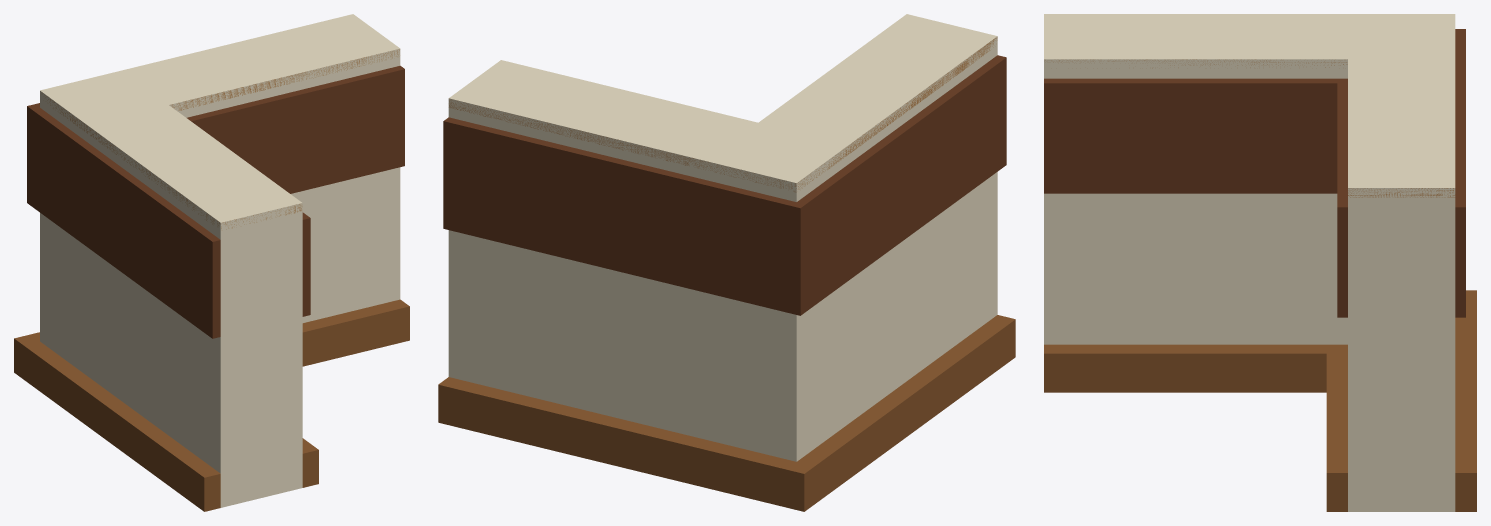
File: partition-elbow.glb
3 views of the same model, side by side, from view 1: azimuth 30°, elevation 25°; view 2: azimuth 150°, elevation 25°; view 3: azimuth 270°, elevation 25° (orthographic). The views are drawn at different scales.
Parts seen in each view (by area): view 1: partition-elbow; view 2: partition-elbow; view 3: partition-elbow.
Part boxes in pixels (bbox=[...]): partition-elbow: bbox=[14, 14, 409, 511]; partition-elbow: bbox=[438, 14, 1015, 511]; partition-elbow: bbox=[1044, 14, 1476, 511].
Size of the model in its own units: 0.605 by 0.5 by 0.605.
Materials: 1 (1 with a texture image).
